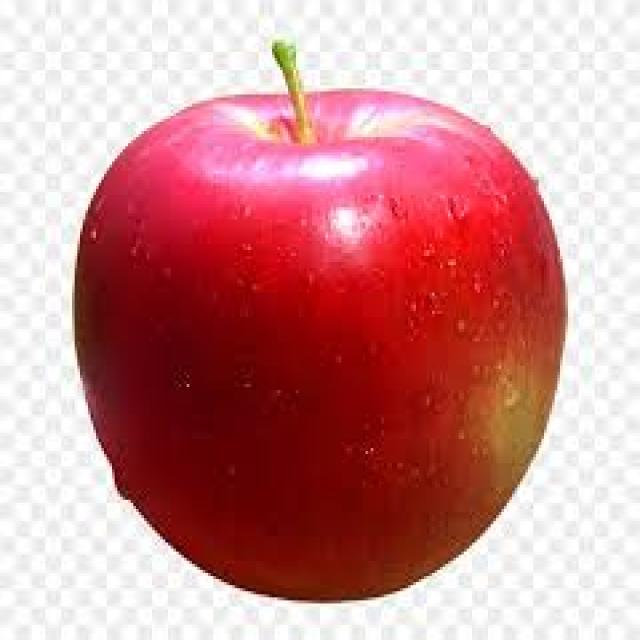apple: (66, 76, 578, 600)
